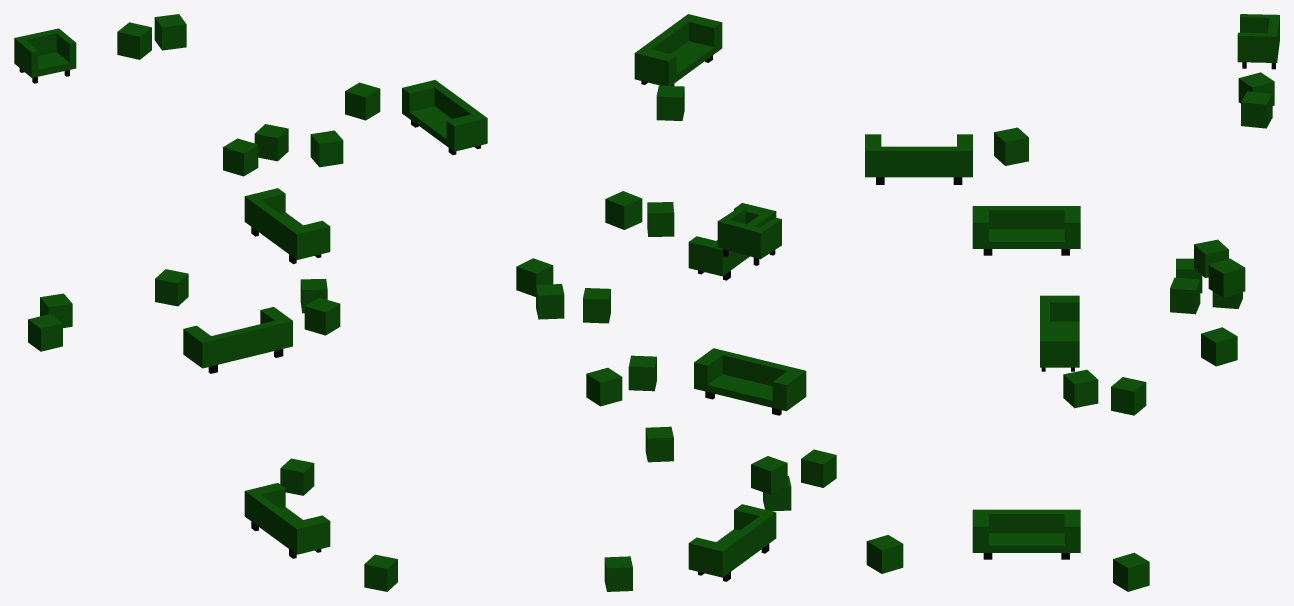
Rendered from canapes.glb.
3 renders of one model, left to right at view 1: azimuth 30°, elevation 25°; view 2: azimuth 150°, elevation 25°; view 3: azimuth 270°, elevation 25°, orthographic. The views are drawn at different scales.
Parts seen in each view (by area): view 1: pCube12.005, pCube12.001, pCube12.002, pCube12.003, pCube12.008, pCube13.002, pCube13.006, pCube13.010, pCube13.017, pCube13, pCube13.001, pCube13.004 (+6 smaller); view 2: pCube12.001, pCube12.005, pCube12.002, pCube12.008, pCube12.003, pCube13.019, pCube13.003, pCube13.012, pCube13, pCube13.013, pCube13.007, pCube13.001 (+6 smaller); view 3: pCube12.002, pCube12.003, pCube12.005, pCube12.001, pCube12.008, pCube13.005, pCube13.004, pCube13.001, pCube13.007, pCube13.002, pCube13.012, pCube13.010 (+4 smaller).
Boxes of the visible parts, x1,y1,x2,y2 form: pCube12.005: (402, 80, 487, 154); pCube12.001: (183, 307, 292, 373); pCube12.002: (244, 483, 330, 558); pCube12.003: (244, 188, 330, 263); pCube12.008: (14, 28, 76, 83); pCube13.002: (304, 297, 340, 335); pCube13.006: (223, 138, 258, 176); pCube13.010: (345, 82, 380, 120); pCube13.017: (117, 22, 151, 59); pCube13: (28, 314, 62, 351); pCube13.001: (155, 269, 188, 306); pCube13.004: (364, 554, 397, 591); pCube12.001: (694, 348, 806, 415); pCube12.005: (634, 14, 722, 85); pCube12.002: (688, 504, 776, 581); pCube12.008: (717, 207, 781, 265); pCube12.003: (688, 203, 776, 280); pCube13.019: (605, 191, 642, 229); pCube13.003: (751, 456, 787, 494); pCube13.012: (586, 367, 622, 406); pCube13: (801, 449, 836, 487); pCube13.013: (516, 258, 553, 296); pCube13.007: (604, 556, 632, 591); pCube13.001: (645, 426, 673, 462); pCube12.002: (972, 509, 1080, 559); pCube12.003: (972, 206, 1080, 255); pCube12.005: (865, 134, 972, 184); pCube12.001: (1040, 295, 1079, 371); pCube12.008: (1237, 14, 1279, 69); pCube13.005: (1208, 258, 1245, 297); pCube13.004: (866, 535, 903, 573); pCube13.001: (1201, 327, 1237, 366); pCube13.007: (1113, 552, 1149, 591); pCube13.002: (1063, 369, 1098, 408); pCube13.012: (1111, 377, 1146, 415); pCube13.010: (994, 127, 1028, 165).
Size of what is drawn, in the model's own units: 10.78 by 15.28 by 12.37.
